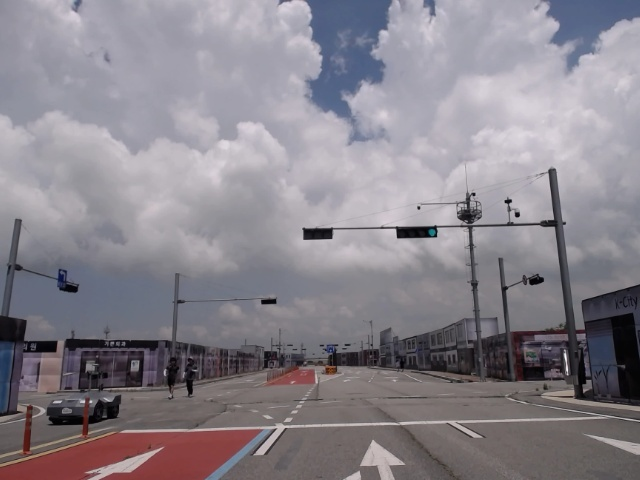straight_green_4: (396, 228, 439, 238)
